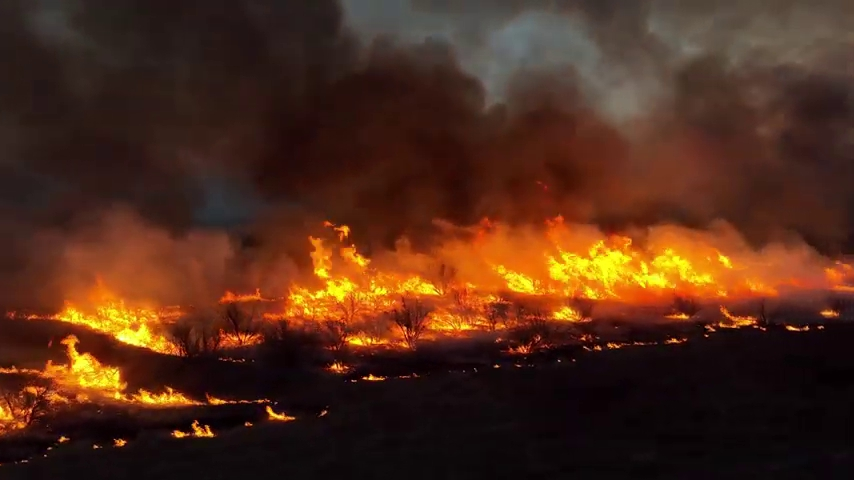forest_fire: (201, 217, 853, 348), (0, 334, 199, 406), (49, 289, 198, 356), (172, 420, 215, 436), (266, 405, 295, 419), (359, 374, 385, 379), (318, 409, 327, 415), (246, 422, 251, 426)
